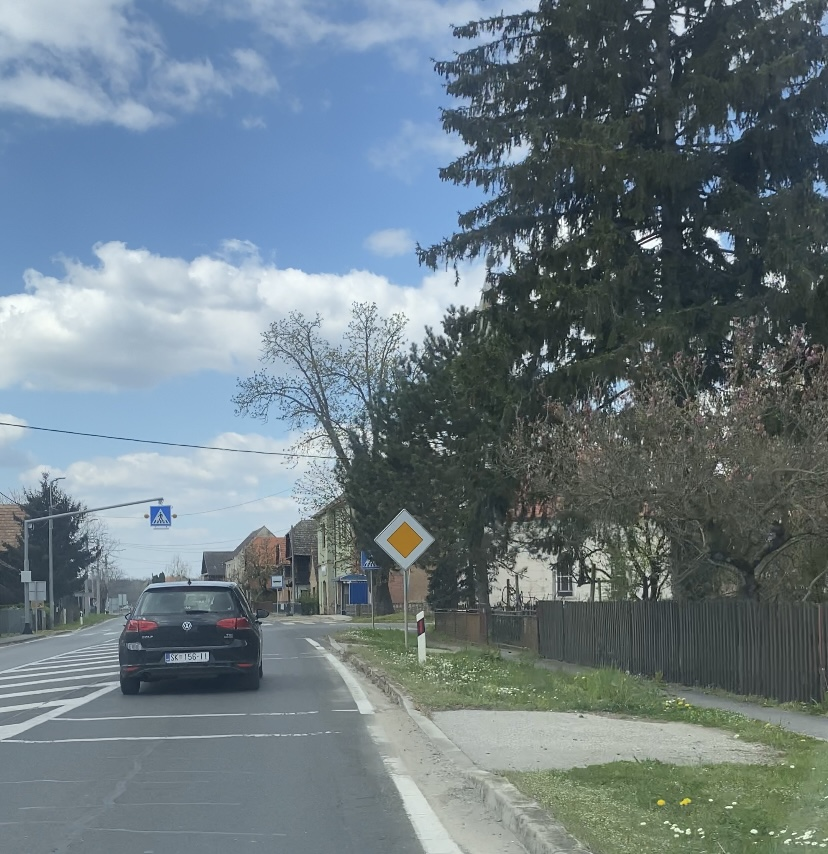Cesta s prednošću prolaska: (373, 508, 436, 570)
Pješački prijelaz: (150, 506, 171, 525)
